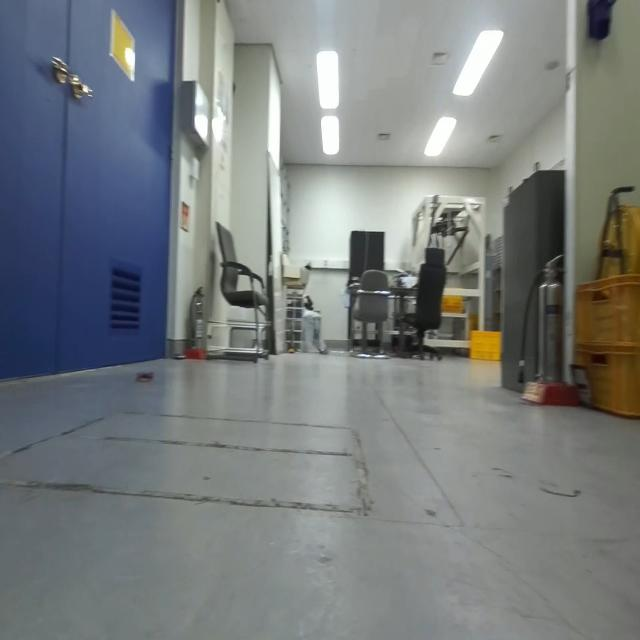crazyflie: (132, 366, 156, 389)
